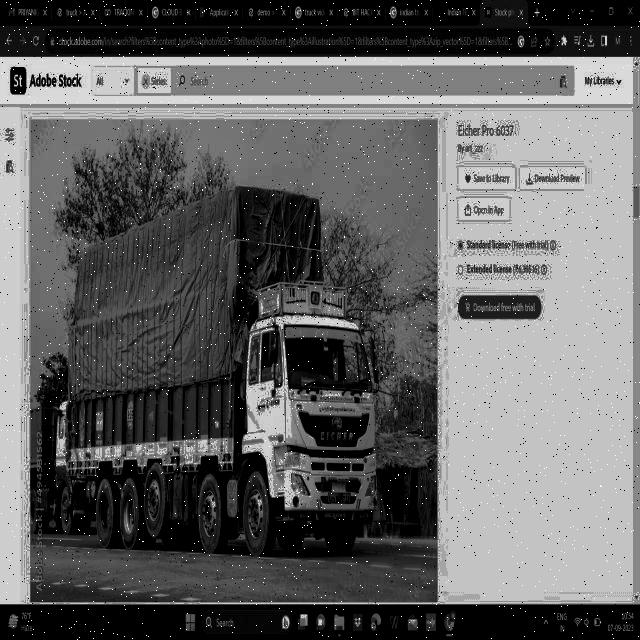HCV: (39, 147, 427, 577)
